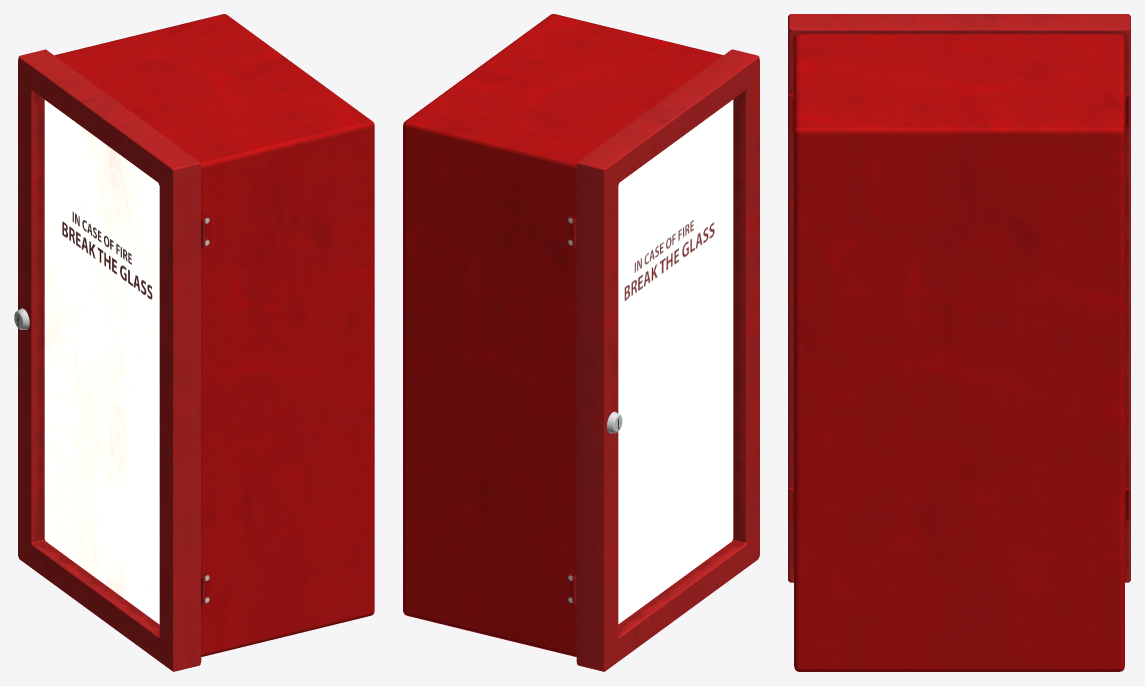
Rendered from SM_Fire_Extinguisher_Cabinet_01a.fbx.
3 renders of one model, left to right at view 1: azimuth 30°, elevation 25°; view 2: azimuth 150°, elevation 25°; view 3: azimuth 270°, elevation 25°, orthographic. The views are drawn at different scales.
Parts seen in each view (by area): view 1: SM_Fire_Extinguisher_Cabinet_01a; view 2: SM_Fire_Extinguisher_Cabinet_01a; view 3: SM_Fire_Extinguisher_Cabinet_01a.
Part boxes in pixels (left/top/right/bottom): SM_Fire_Extinguisher_Cabinet_01a: left=14, top=14, right=374, bottom=671; SM_Fire_Extinguisher_Cabinet_01a: left=403, top=14, right=759, bottom=671; SM_Fire_Extinguisher_Cabinet_01a: left=788, top=14, right=1130, bottom=671.
Size of the model in its own units: 29.99 by 38.03 by 67.87.
Materials: 2 (1 with a texture image).
